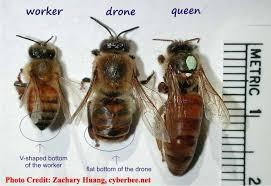Queen-Bee: (151, 32, 220, 181)
worker-bee: (15, 32, 73, 138)
